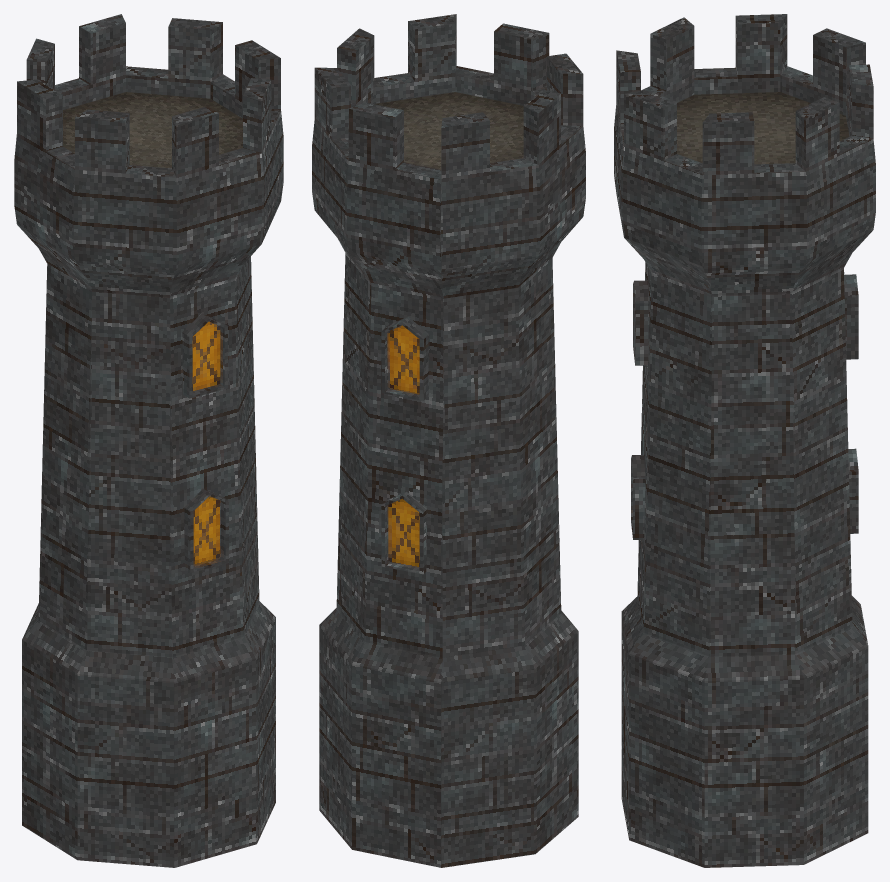
Rendered from Tower.gltf.
3 renders of one model, left to right at view 1: azimuth 30°, elevation 25°; view 2: azimuth 150°, elevation 25°; view 3: azimuth 270°, elevation 25°, orthographic.
Parts seen in each view (by area): view 1: Tower; view 2: Tower; view 3: Tower.
Boxes of the visible parts, x1,y1,x2,y2 form: Tower: (14, 14, 283, 867); Tower: (312, 14, 585, 867); Tower: (614, 14, 875, 867).
Size of the model in its own units: 5.9 by 18.58 by 5.9.
Materials: 1 (1 with a texture image).
